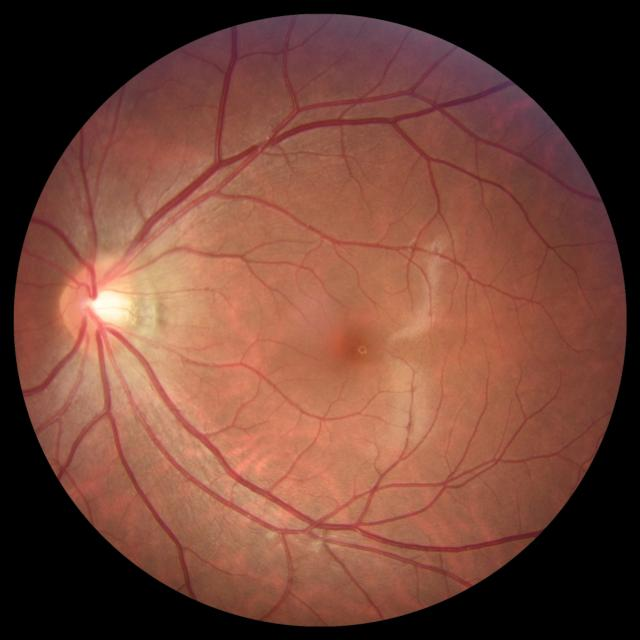OC: (82, 286, 124, 331)
OD: (62, 258, 133, 353)
